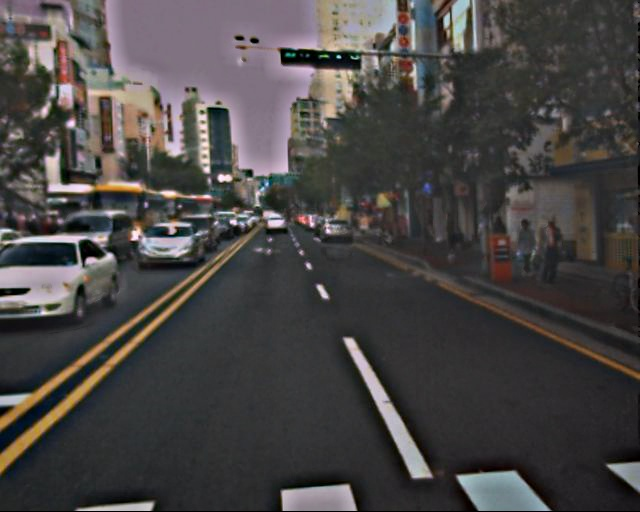person: (536, 215, 565, 285), (510, 220, 535, 281), (488, 213, 508, 262), (441, 210, 460, 257), (423, 210, 439, 250)
